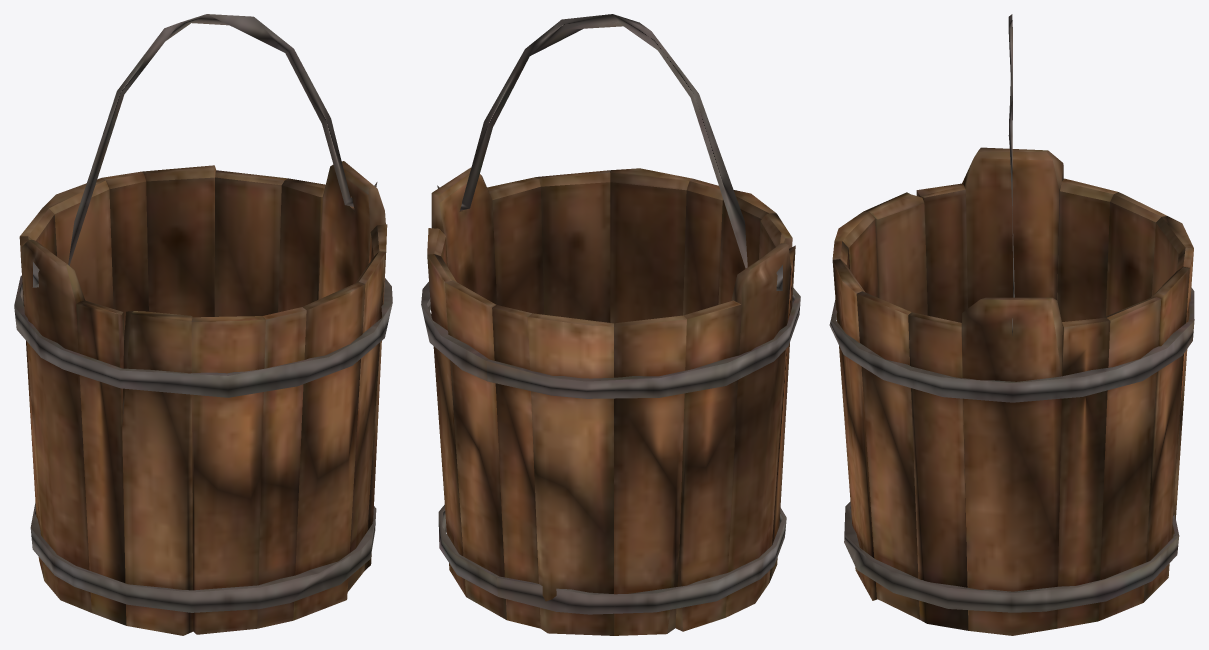
The model's file is bucket.glb.
3 renders of one model, left to right at view 1: azimuth 30°, elevation 25°; view 2: azimuth 150°, elevation 25°; view 3: azimuth 270°, elevation 25°, orthographic. The views are drawn at different scales.
Visible parts, largest first — view 1: wooden_bucket_01; view 2: wooden_bucket_01; view 3: wooden_bucket_01.
Part boxes in pixels (x1=…): wooden_bucket_01: x1=14, y1=14, x2=392, y2=635; wooden_bucket_01: x1=421, y1=14, x2=800, y2=635; wooden_bucket_01: x1=829, y1=14, x2=1194, y2=635.
Size of the model in its own units: 0.3577 by 0.5473 by 0.3354.
1 material, 1 textured.
